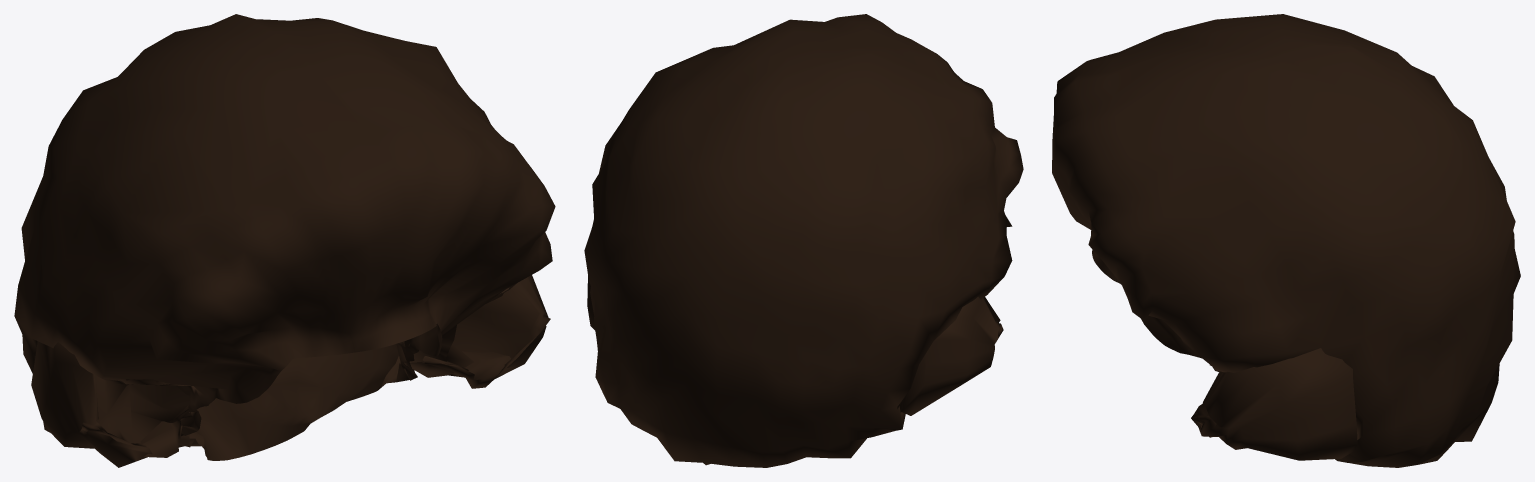
The model's file is hair_afro.glb.
The picture shows the model from 3 angles, left to right: view 1: azimuth 30°, elevation 25°; view 2: azimuth 150°, elevation 25°; view 3: azimuth 270°, elevation 25°; orthographic projection. The views are drawn at different scales.
Parts seen in each view (by area): view 1: hair_afro; view 2: hair_afro; view 3: hair_afro.
Boxes of the visible parts, x1=… form: hair_afro: x1=14, y1=14, x2=555, y2=467; hair_afro: x1=584, y1=14, x2=1023, y2=467; hair_afro: x1=1052, y1=14, x2=1520, y2=467.
Size of the model in its own units: 0.3364 by 0.3061 by 0.3243.
